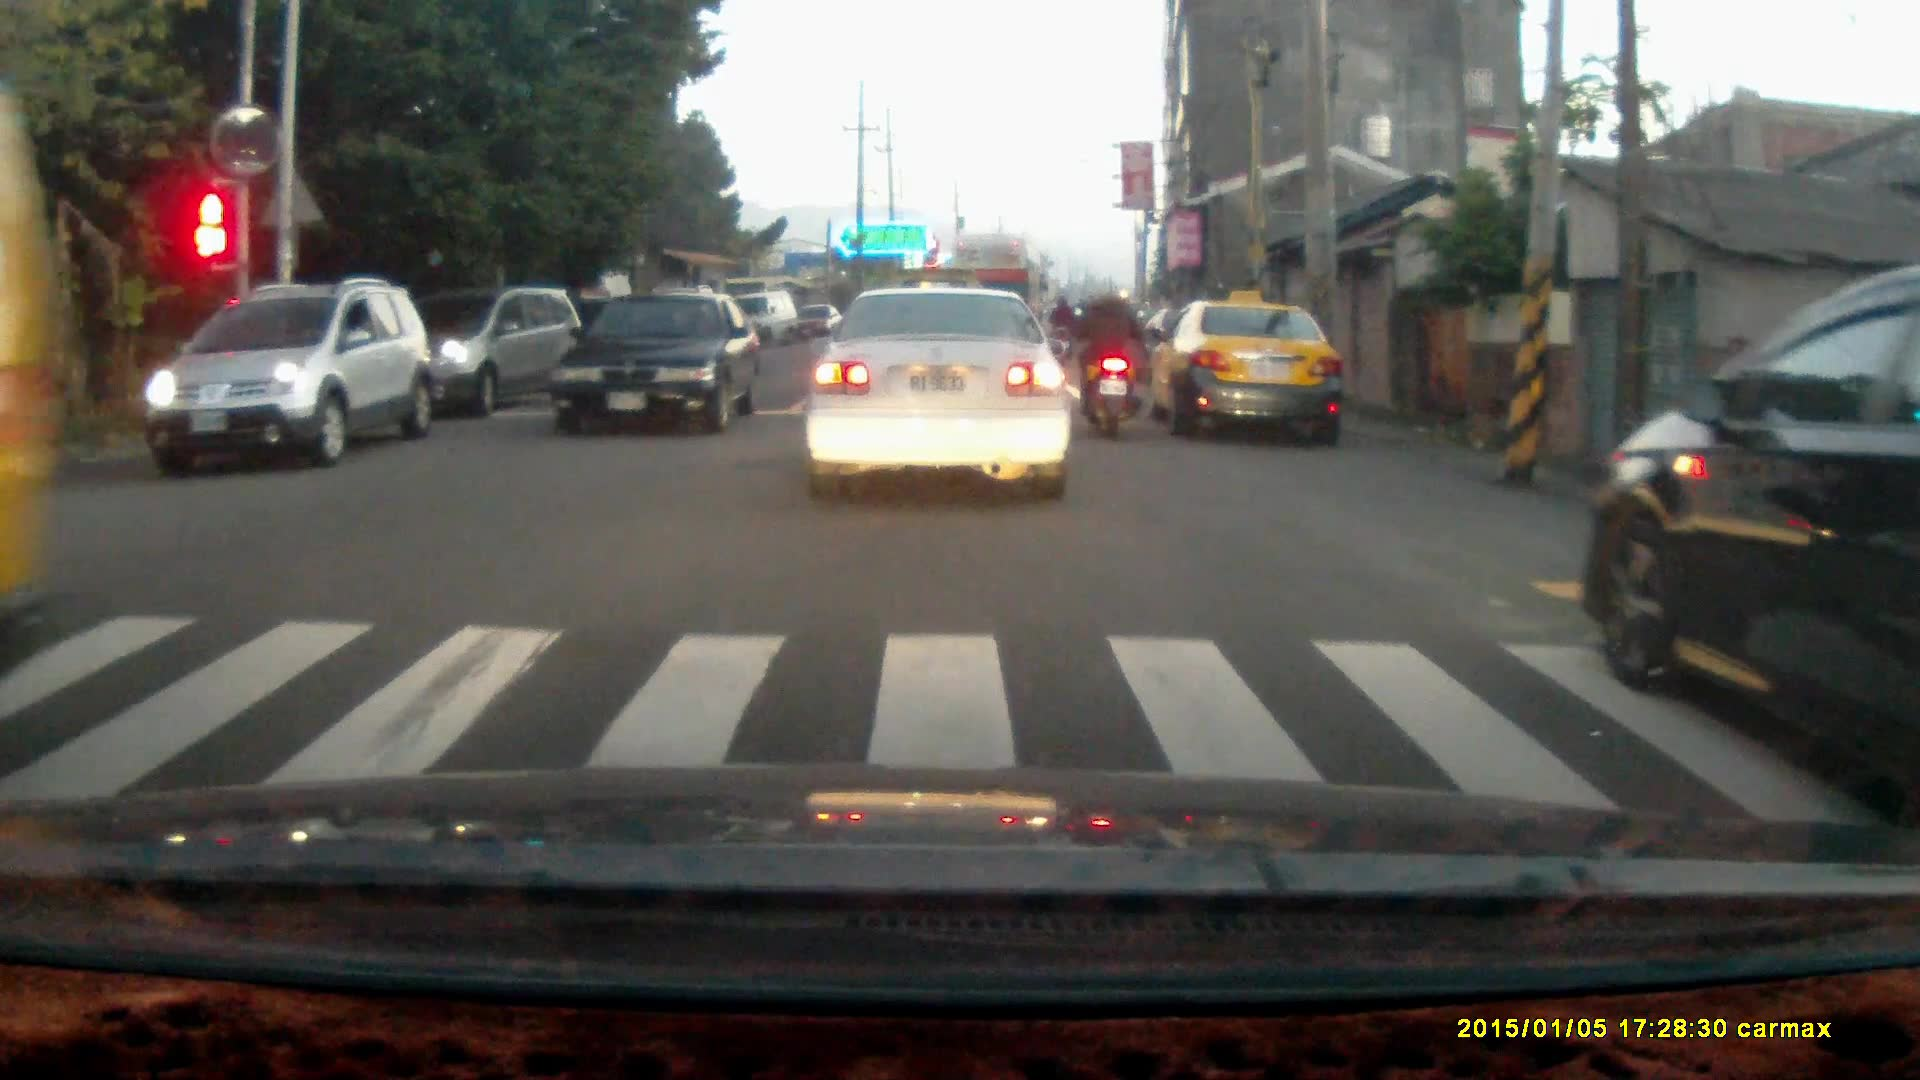rider: (1072, 274, 1147, 440)
vehicle: (1603, 287, 1920, 771), (805, 284, 1079, 502), (150, 281, 434, 472), (550, 286, 763, 440), (1151, 300, 1343, 443)
